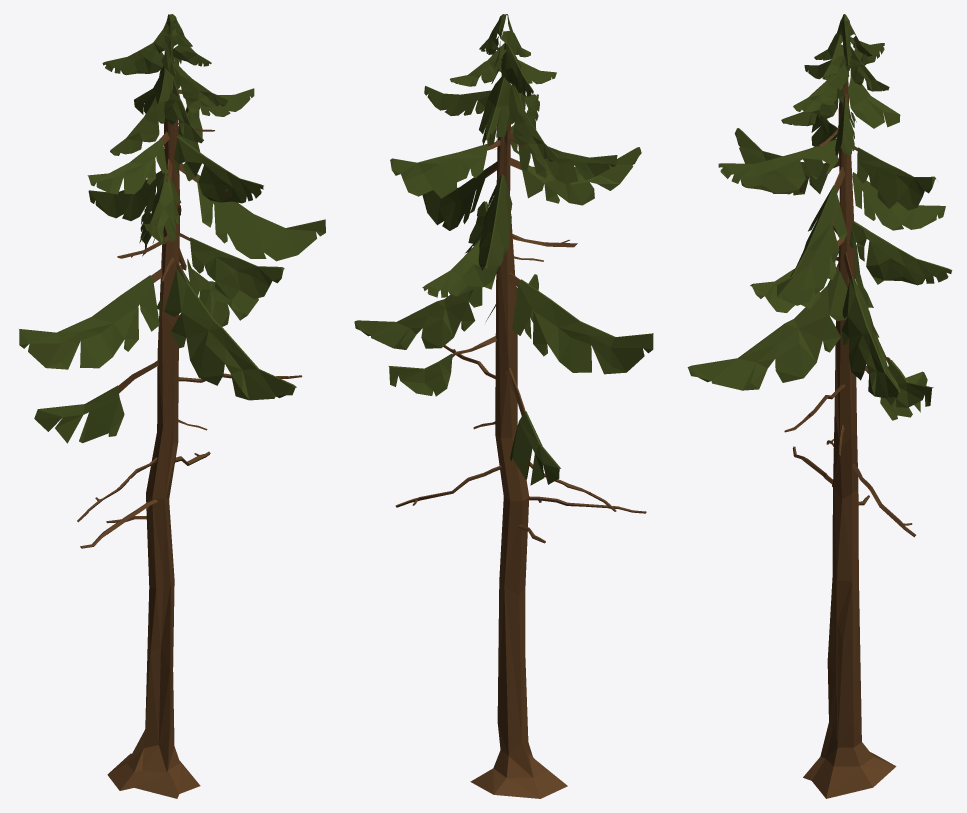
File: tree-spruce-mature-a.gltf
3 views of the same model, side by side, from view 1: azimuth 30°, elevation 25°; view 2: azimuth 150°, elevation 25°; view 3: azimuth 270°, elevation 25° (orthographic).
Visible parts, largest first — view 1: tree-spruce-mature-a; view 2: tree-spruce-mature-a; view 3: tree-spruce-mature-a.
Boxes of the visible parts, x1=… form: tree-spruce-mature-a: x1=19, y1=14, x2=325, y2=798; tree-spruce-mature-a: x1=354, y1=14, x2=653, y2=798; tree-spruce-mature-a: x1=687, y1=14, x2=952, y2=798.
Bounding box in the file's own units: 0.049 × 0.1312 × 0.0407.
